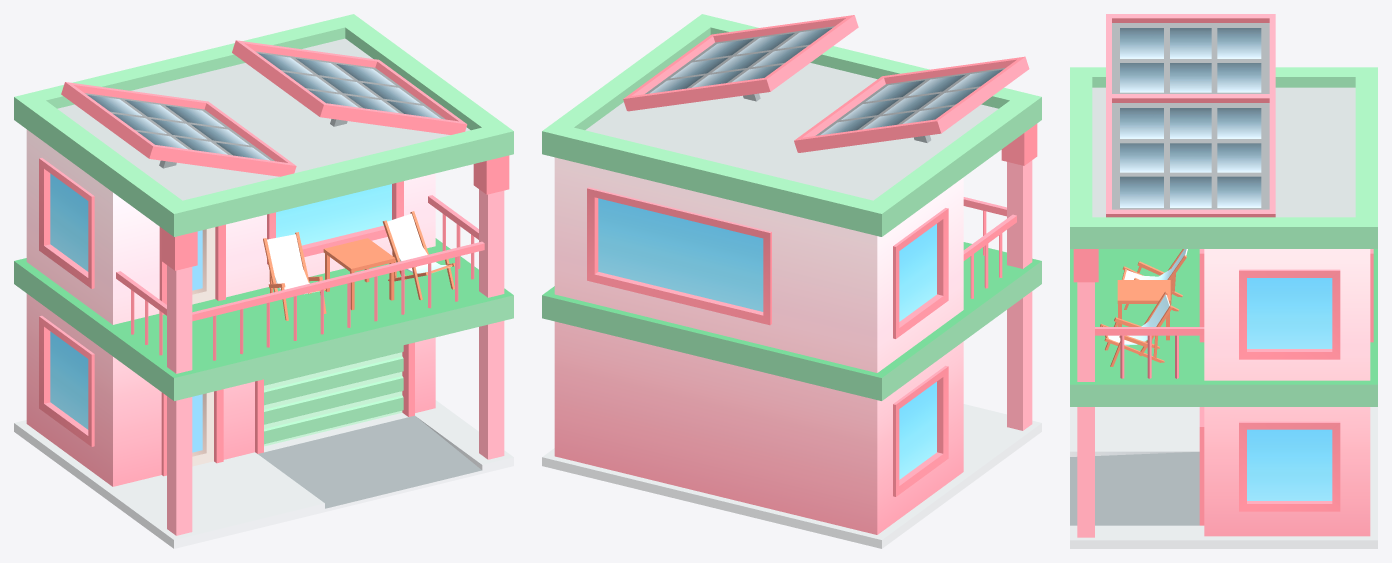
File: city2-building-living-19.glb
3 renders of one model, left to right at view 1: azimuth 30°, elevation 25°; view 2: azimuth 150°, elevation 25°; view 3: azimuth 270°, elevation 25°, orthographic. The views are drawn at different scales.
Visible parts, largest first — view 1: Building_Living_19; view 2: Building_Living_19; view 3: Building_Living_19.
Part boxes in pixels (<box>): Building_Living_19: <box>14,14,513,548</box>; Building_Living_19: <box>542,14,1041,548</box>; Building_Living_19: <box>1070,14,1377,548</box>.
Bounding box in the file's own units: 8.18 × 8.79 × 6.55.
Materials: 1 (1 with a texture image).
